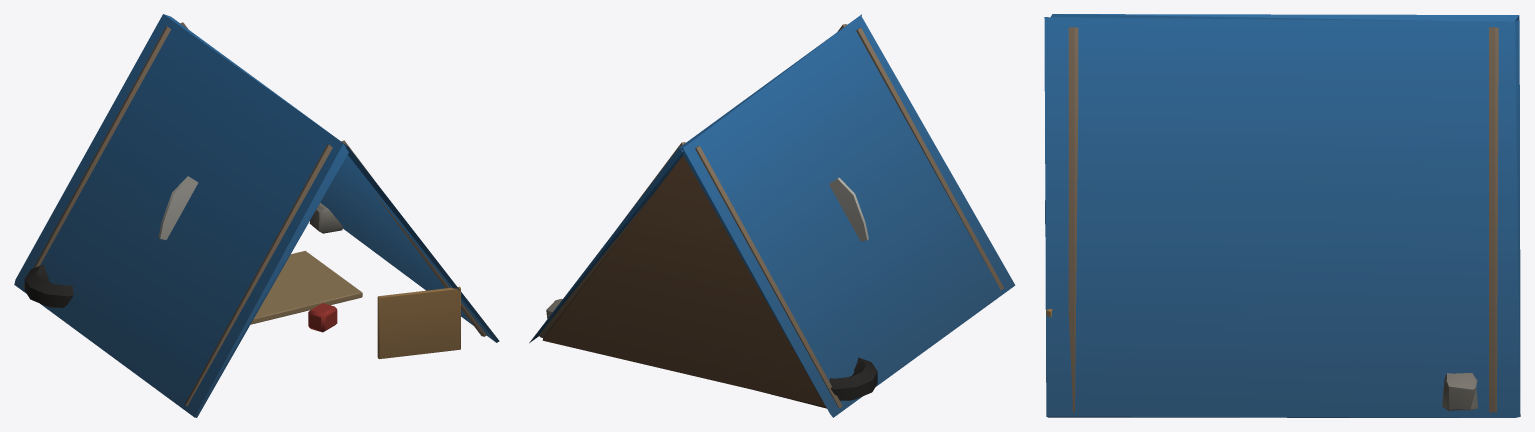
The model's file is 26_tente_fortune.fbx.
The picture shows the model from 3 angles, left to right: view 1: azimuth 30°, elevation 25°; view 2: azimuth 150°, elevation 25°; view 3: azimuth 270°, elevation 25°; orthographic projection. The views are drawn at different scales.
Visible parts, largest first — view 1: Bache, Structure; view 2: Bache, Structure; view 3: Bache, Structure.
Part boxes in pixels (x1,y1,x2,y2): Bache: [14, 14, 499, 417]; Structure: [23, 22, 486, 406]; Bache: [529, 14, 1015, 417]; Structure: [539, 24, 1003, 408]; Bache: [1044, 14, 1520, 417]; Structure: [1046, 27, 1498, 412].
Bounding box in the file's own units: 1.96 × 1.4 × 1.96.
1 material, 1 textured.
